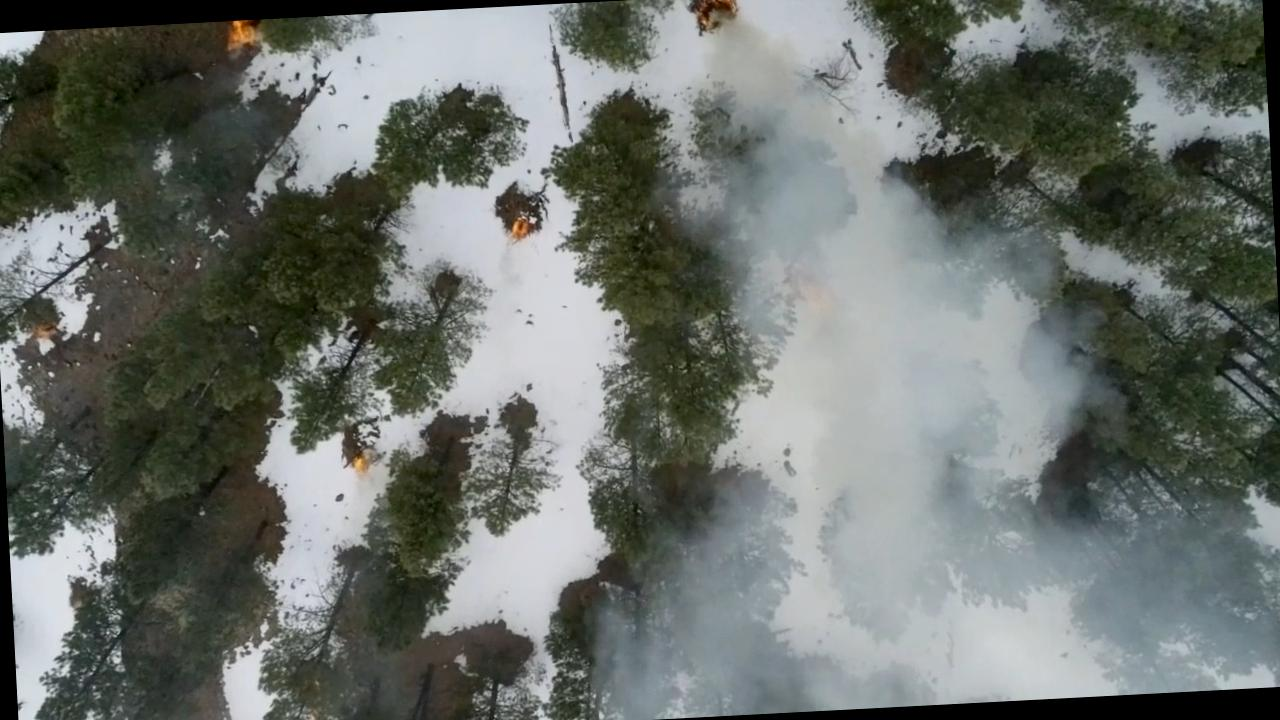fire: (689, 0, 748, 40), (214, 20, 258, 64), (502, 216, 536, 252), (342, 460, 372, 486)
smoke: (592, 420, 1269, 720), (716, 118, 1084, 444)
